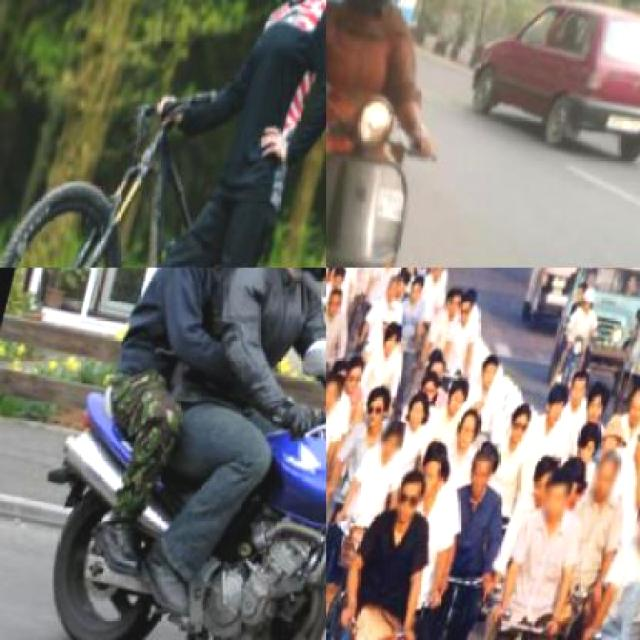With Helmet: (335, 0, 417, 23), (576, 288, 606, 326)
Without Helmet: (384, 466, 434, 534), (531, 473, 575, 542), (584, 458, 627, 522), (372, 424, 408, 474), (623, 494, 639, 577), (326, 374, 348, 431)
